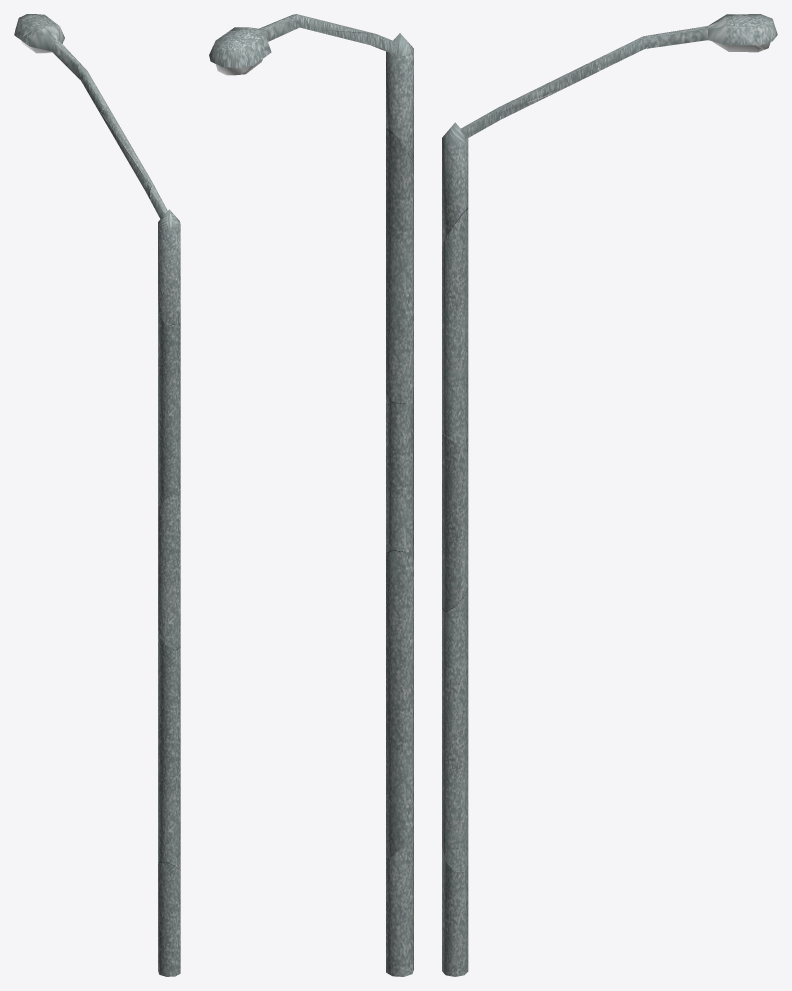
The model's file is LampCellFracture.fbx.
The picture shows the model from 3 angles, left to right: view 1: azimuth 30°, elevation 25°; view 2: azimuth 150°, elevation 25°; view 3: azimuth 270°, elevation 25°; orthographic projection. The views are drawn at different scales.
Visible parts, largest first — view 1: polySurface836.003_cell.010, polySurface836.003_cell.020, polySurface836.003_cell.017, polySurface836.003_cell.012, polySurface836.003_cell.007, polySurface836.003_cell.004, polySurface836.003_cell.019, polySurface836.003_cell.002, polySurface836.003_cell.003, polySurface836.003_cell.021; view 2: polySurface836.003_cell.010, polySurface836.003_cell.020, polySurface836.003_cell.017, polySurface836.003_cell.012, polySurface836.003_cell.007, polySurface836.003_cell.002, polySurface836.003_cell.004, polySurface836.003_cell.021; view 3: polySurface836.003_cell.010, polySurface836.003_cell.020, polySurface836.003_cell.017, polySurface836.003_cell.012, polySurface836.003_cell.007, polySurface836.003_cell.004, polySurface836.003_cell.019, polySurface836.003_cell.002, polySurface836.003_cell.003.
Boxes of the visible parts, x1,y1,x2,y2 form: polySurface836.003_cell.010: [158, 626, 180, 870]; polySurface836.003_cell.020: [158, 297, 180, 504]; polySurface836.003_cell.017: [158, 489, 180, 650]; polySurface836.003_cell.012: [158, 862, 180, 976]; polySurface836.003_cell.007: [158, 209, 180, 325]; polySurface836.003_cell.004: [19, 23, 83, 84]; polySurface836.003_cell.019: [101, 108, 153, 185]; polySurface836.003_cell.002: [14, 14, 54, 38]; polySurface836.003_cell.003: [78, 64, 108, 112]; polySurface836.003_cell.021: [100, 112, 151, 199]; polySurface836.003_cell.010: [386, 550, 413, 857]; polySurface836.003_cell.020: [386, 129, 413, 403]; polySurface836.003_cell.017: [386, 383, 413, 561]; polySurface836.003_cell.012: [386, 829, 413, 976]; polySurface836.003_cell.007: [386, 33, 413, 167]; polySurface836.003_cell.002: [209, 29, 261, 68]; polySurface836.003_cell.004: [230, 17, 303, 60]; polySurface836.003_cell.021: [323, 30, 384, 49]; polySurface836.003_cell.010: [442, 586, 468, 871]; polySurface836.003_cell.020: [442, 208, 468, 451]; polySurface836.003_cell.017: [442, 433, 468, 611]; polySurface836.003_cell.012: [442, 849, 468, 976]; polySurface836.003_cell.007: [442, 122, 468, 245]; polySurface836.003_cell.004: [647, 14, 754, 48]; polySurface836.003_cell.019: [494, 60, 599, 112]; polySurface836.003_cell.002: [731, 14, 777, 45]; polySurface836.003_cell.003: [594, 34, 657, 70].
Size of the model in its own units: 0.4878 by 11.09 by 3.54.
Materials: 2 (1 with a texture image).
